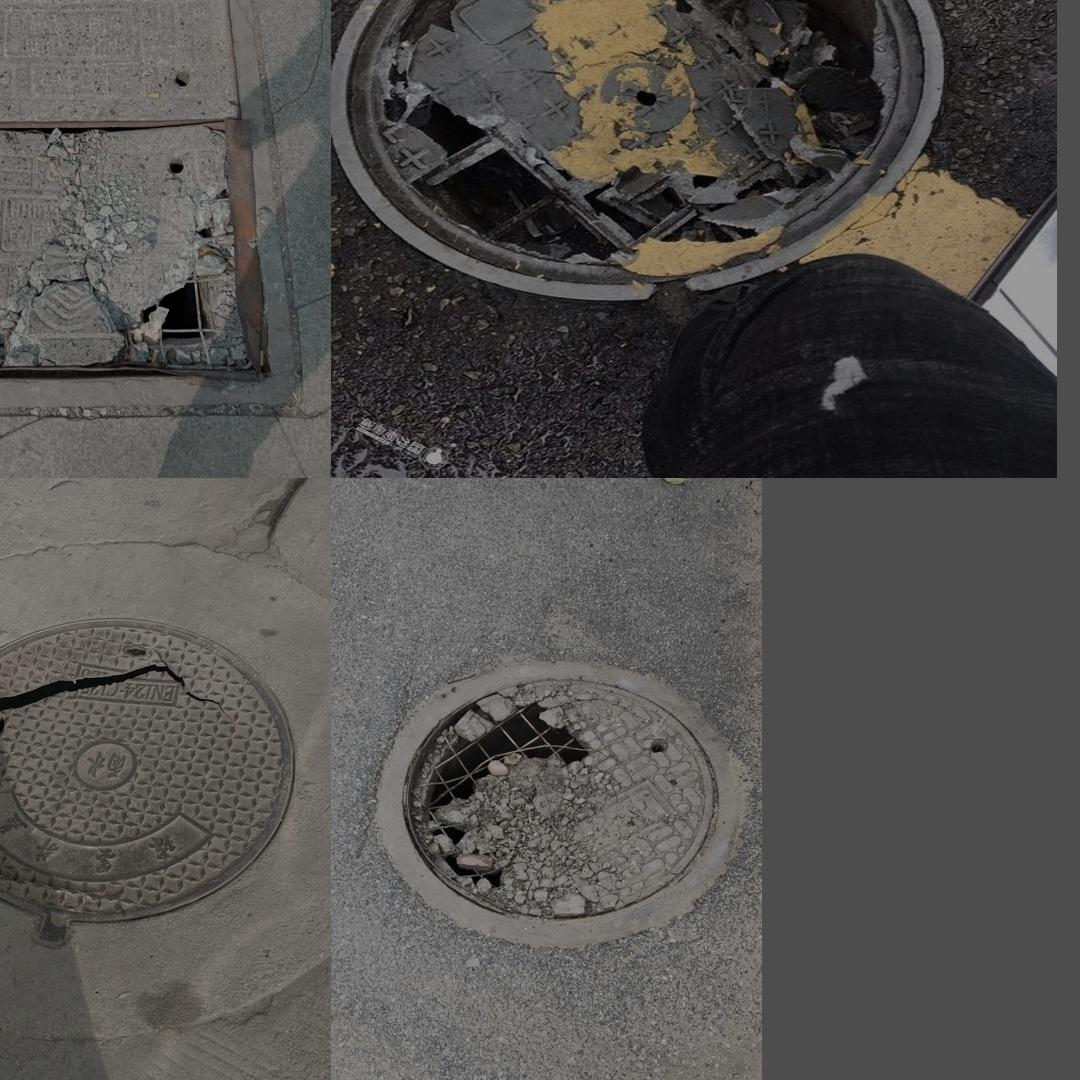broke: (342, 0, 961, 297), (0, 571, 325, 1002), (0, 0, 298, 407), (376, 663, 739, 950)
